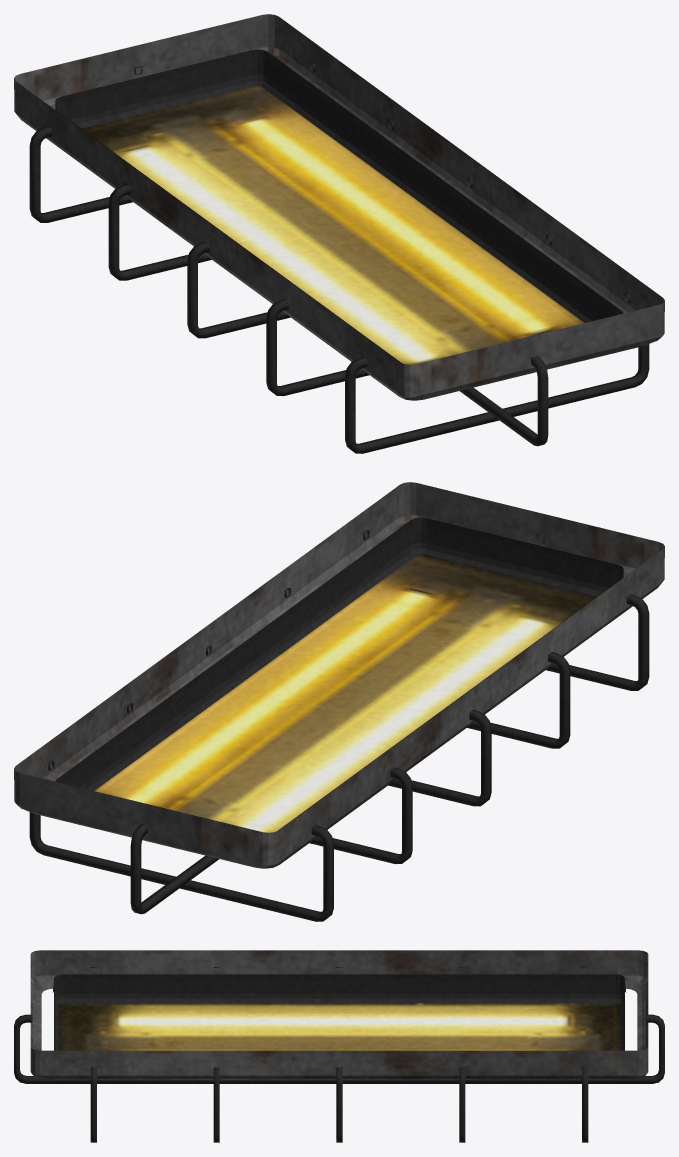
File: ceiling_lamp_2.obj
The picture shows the model from 3 angles, top to bottom: view 1: azimuth 30°, elevation 25°; view 2: azimuth 150°, elevation 25°; view 3: azimuth 270°, elevation 25°; orthographic projection. The views are drawn at different scales.
Visible parts, largest first — view 1: ceiling_lamp_2, ceiling_lamp_2_cover; view 2: ceiling_lamp_2, ceiling_lamp_2_cover; view 3: ceiling_lamp_2, ceiling_lamp_2_cover.
Boxes of the visible parts, x1,y1,x2,y2 form: ceiling_lamp_2: (14, 14, 664, 400); ceiling_lamp_2_cover: (29, 62, 649, 453); ceiling_lamp_2: (14, 482, 664, 868); ceiling_lamp_2_cover: (29, 530, 649, 921); ceiling_lamp_2: (30, 950, 648, 1079); ceiling_lamp_2_cover: (14, 967, 664, 1142).
Bounding box in the file's own units: 0.44 × 0.16 × 1.06.
